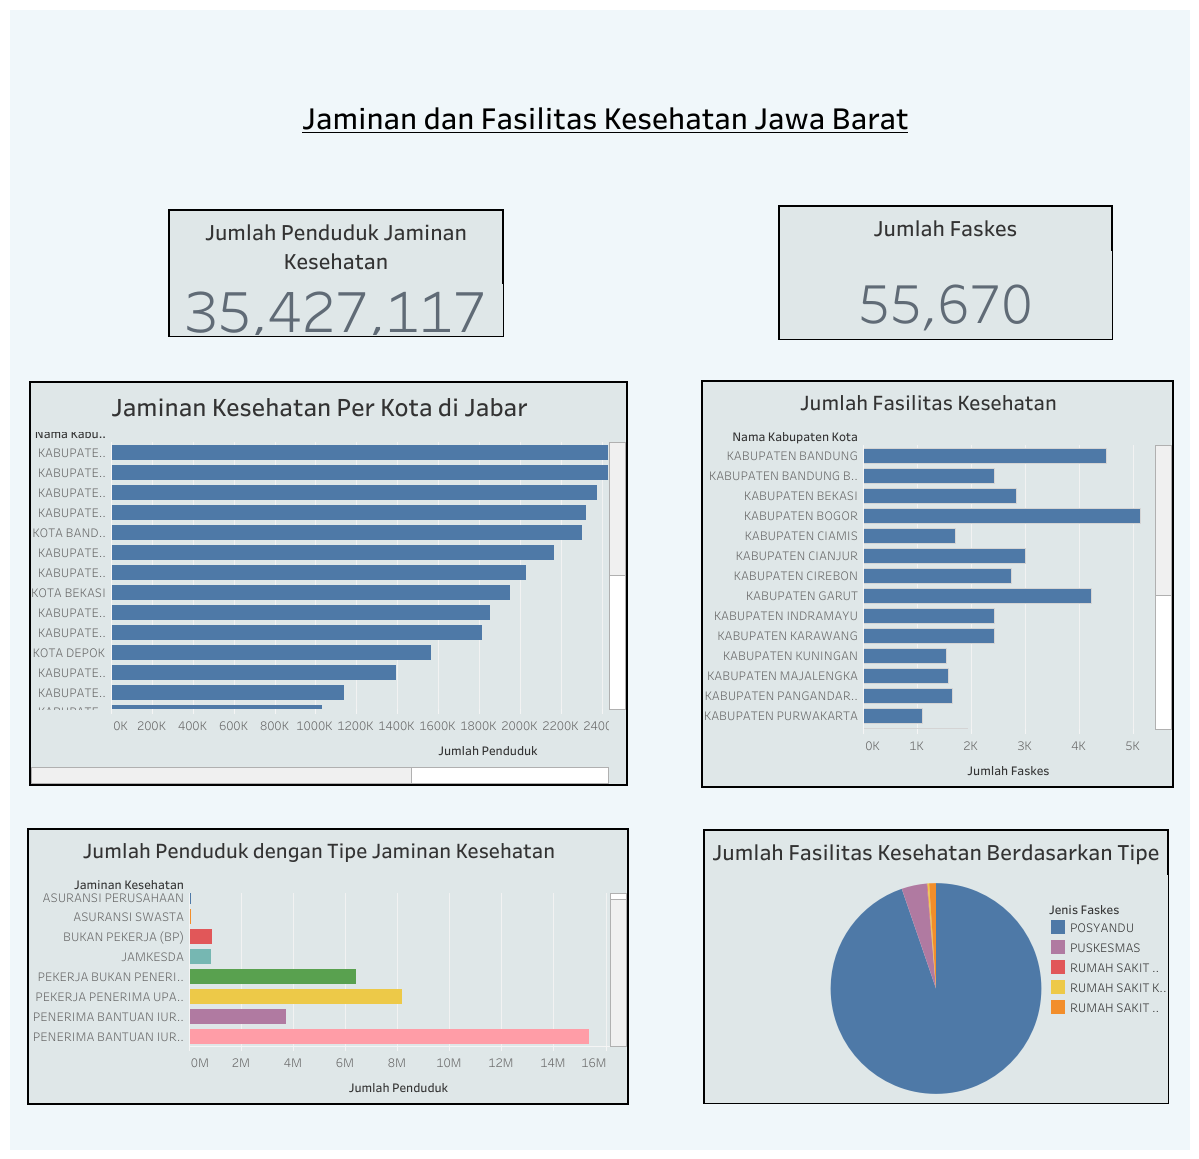

What the dashboard file says about the page in this screenshot:
{"tool":"tableau","page":{"name":"Jaminan dan Fasilitas Kesehatan Jawa Barat","canvas":[1000,1000],"units":"permille","ordinal":0},"visuals":[{"type":"text","box":[145.8,61.2,717.5,79.3]},{"type":"worksheet","title":"Jumlah Fskes","mark":"Automatic","box":[648.3,176.7,279.2,116.4]},{"type":"worksheet","title":"Jumlah Penduduk Jaminan Kesehatan","mark":"Automatic","box":[140,180.2,280,110.3]},{"type":"worksheet","title":"Faskes Jabar","mark":"Automatic","rows":["nama_kabupaten_kota"],"cols":["jumlah_faskes"],"box":[584.2,327.6,394.2,351.7]},{"type":"worksheet","title":"Jaminan Kesehatan Per Kota di Jabar","mark":"Automatic","rows":["nama_kabupaten_kota"],"box":[24.2,328.4,499.2,349.1]},{"type":"worksheet","title":"Jml Penduduk dgn JamKes","mark":"Automatic","rows":["jaminan_kesehatan"],"box":[22.5,713.8,501.7,238.8]},{"type":"worksheet","title":"Jml Faskes Tipe","mark":"Pie","box":[585.8,714.7,388.3,237.1]},{"type":"legend","title":"Jml Faskes Tipe","param":"[federated.1lare3b12sps4h19bkq6s0jznqwl].[none:jenis_faskes:nk]","box":[873.3,774.1,99.2,145.7]}]}

Visuals, with their boxes on the dashboard's canvas, which has no fixed pixel size, in thousandths of its width and height (x1, y1, x2, y2). These are canvas units, not pixel positions in the 1199x1159 screenshot, which may show the page scaled, cropped or inside an application window:
text: <region>146, 61, 863, 140</region>
"Jumlah Fskes" worksheet: <region>648, 177, 928, 293</region>
"Jumlah Penduduk Jaminan Kesehatan" worksheet: <region>140, 180, 420, 290</region>
"Faskes Jabar" worksheet: <region>584, 328, 978, 679</region>
"Jaminan Kesehatan Per Kota di Jabar" worksheet: <region>24, 328, 523, 678</region>
"Jml Penduduk dgn JamKes" worksheet: <region>22, 714, 524, 953</region>
"Jml Faskes Tipe" worksheet (Pie marks): <region>586, 715, 974, 952</region>
"Jml Faskes Tipe" legend: <region>873, 774, 972, 920</region>
